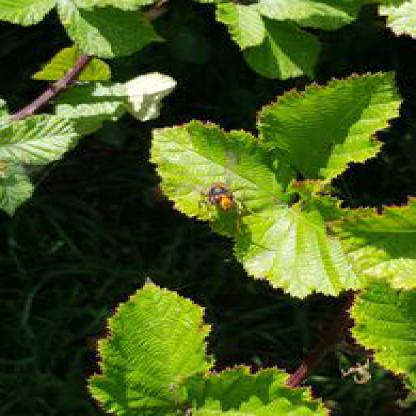Asian Hornet: (190, 178, 255, 224)
